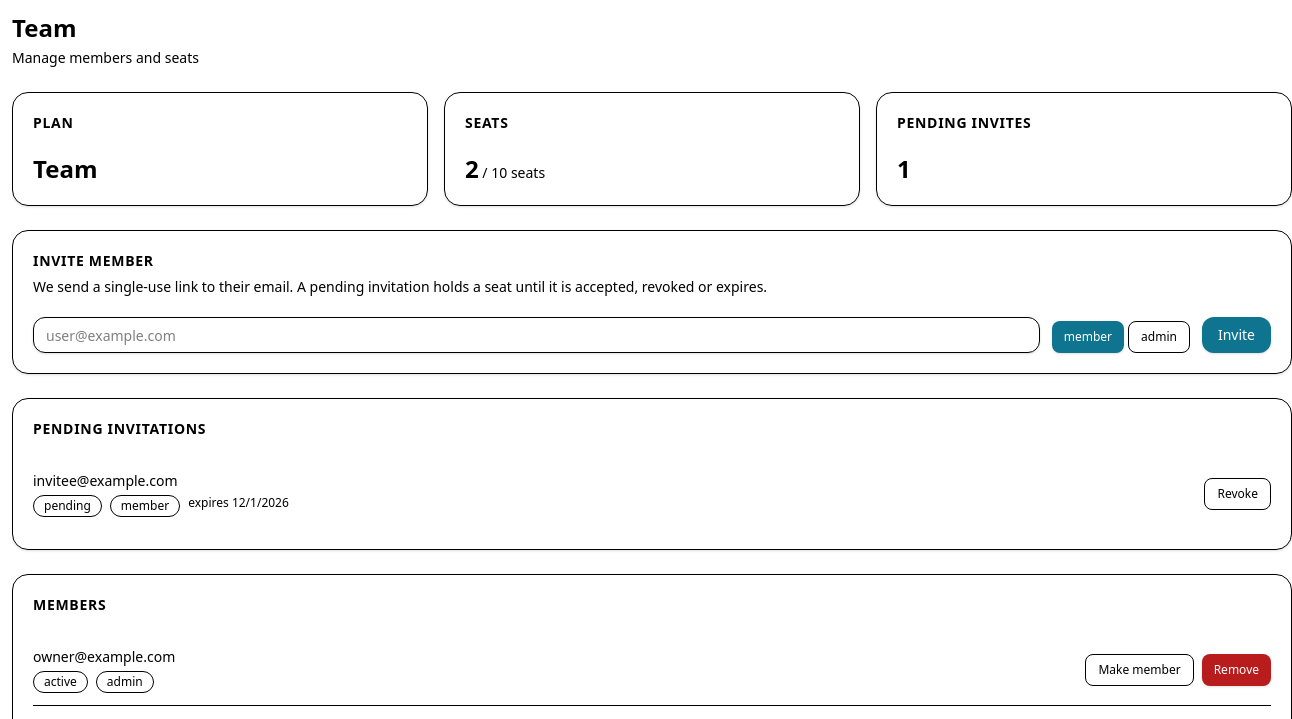
TeamPage › shows the one-time link when email is not configured
This screenshot has width=1292, height=719.
Step 1. Type "new@example.com" into the field named "Email address" → x=536, y=335, box [33,317,1040,353]
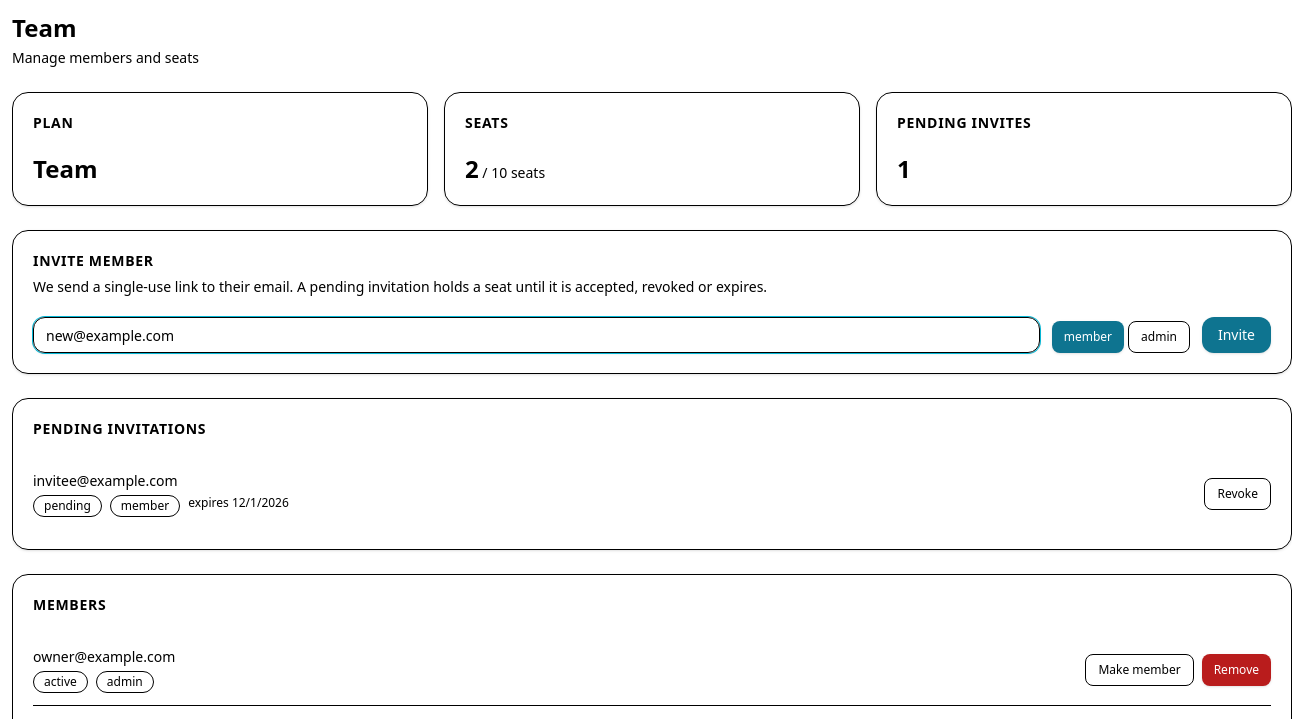
Step 2. Click the button "Invite" → x=1236, y=335, box [1202,317,1271,353]
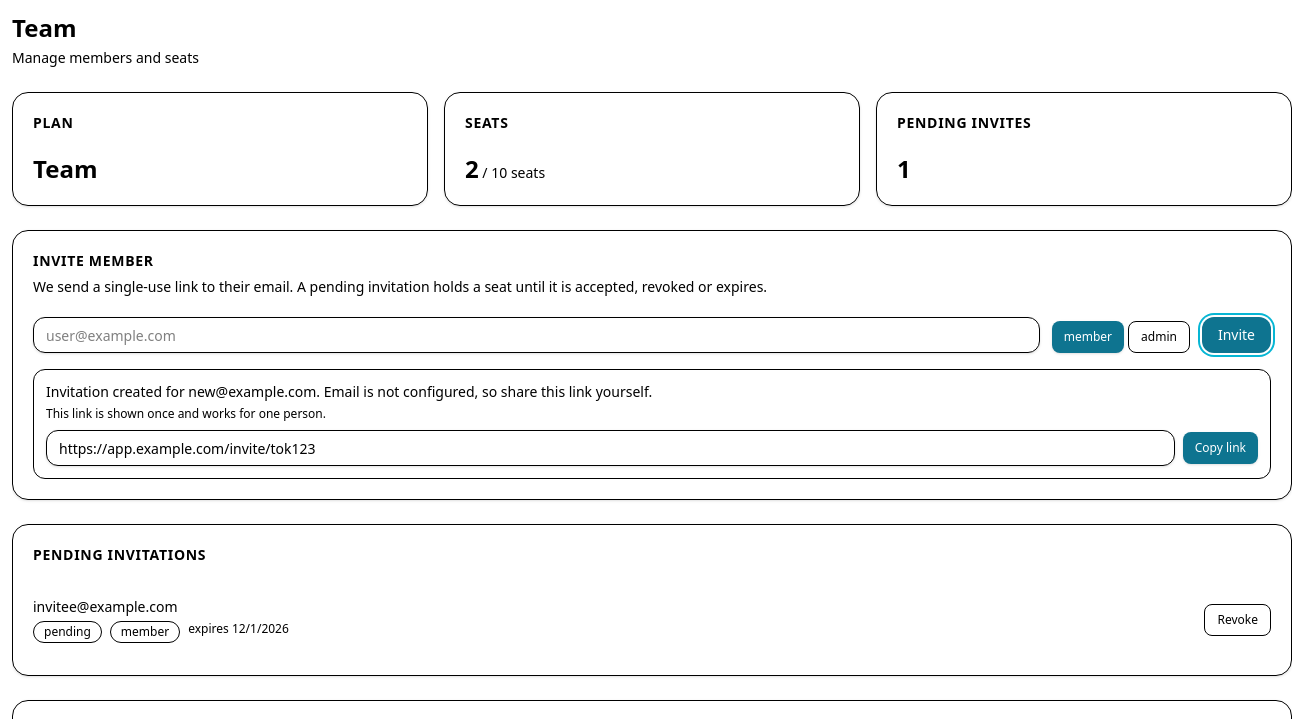
Result: the field named "Invitation link" holds "https://app.example.com/invite/tok123" at [46,430,1175,466]
Result: the message shows "share this link yourself" at [46,382,652,401]
Result: the button "Copy link" is shown at [1183,432,1258,464]
